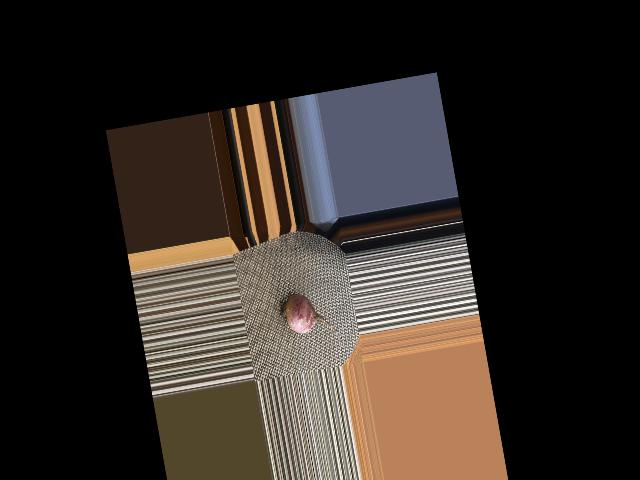beet: (277, 287, 341, 353)
